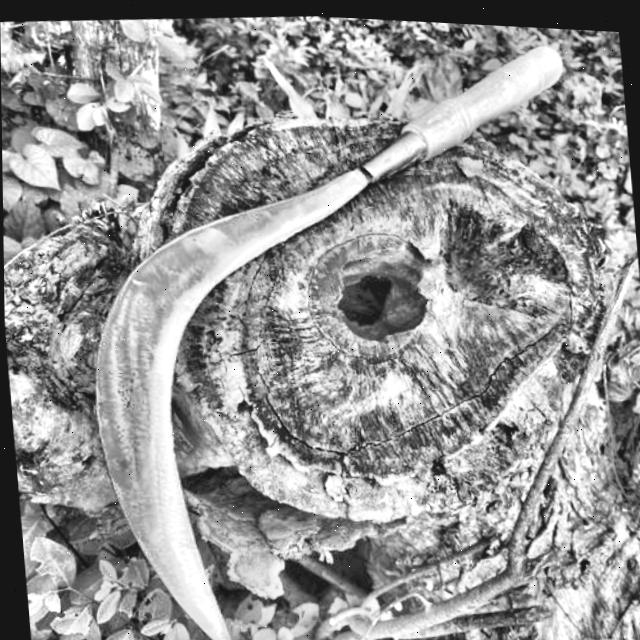celurit: (88, 37, 571, 640)
